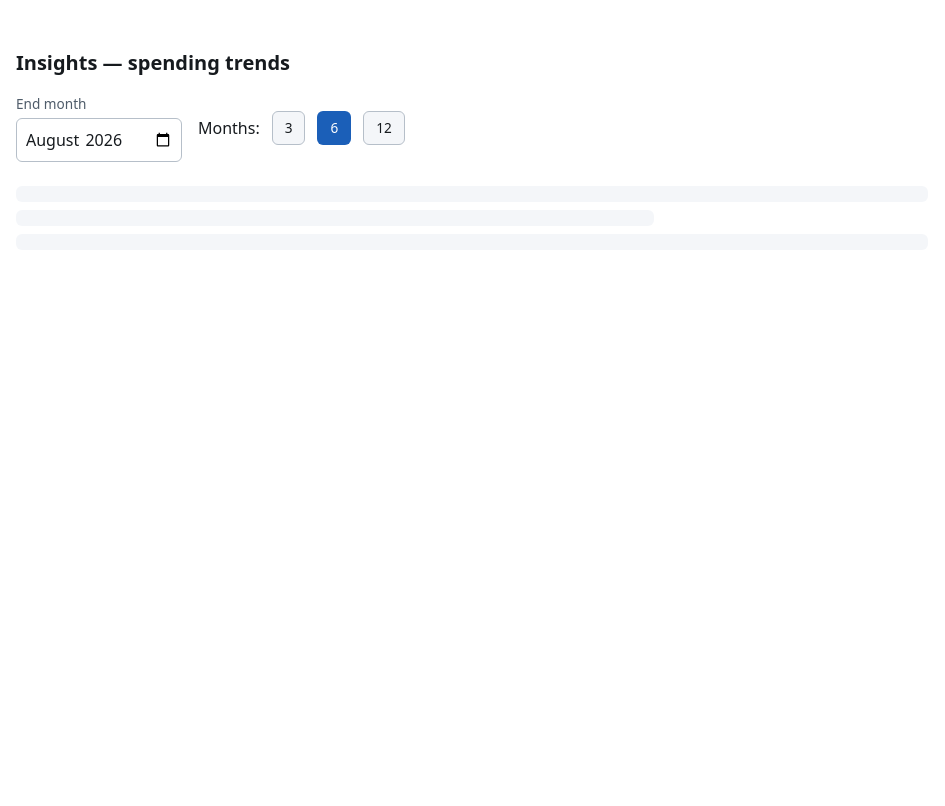
Scenario: SpendingTrendsView (FEAT-UX10) › shows the total trend and the top-2 envelopes by outflow over the window, 0-filled
Replace the text in the field labelled "End month" with "2026-03" at [99, 140], box left=16, top=118, right=182, bottom=162
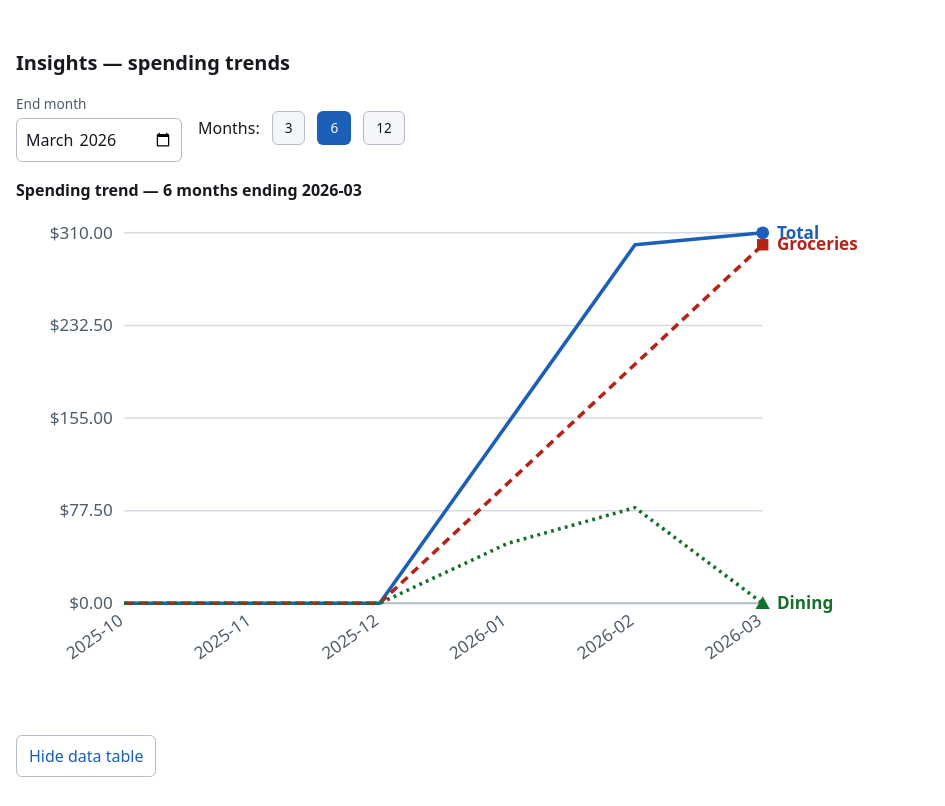
Click the button "3" at [289, 128], box left=272, top=111, right=306, bottom=145
(page scrolled)
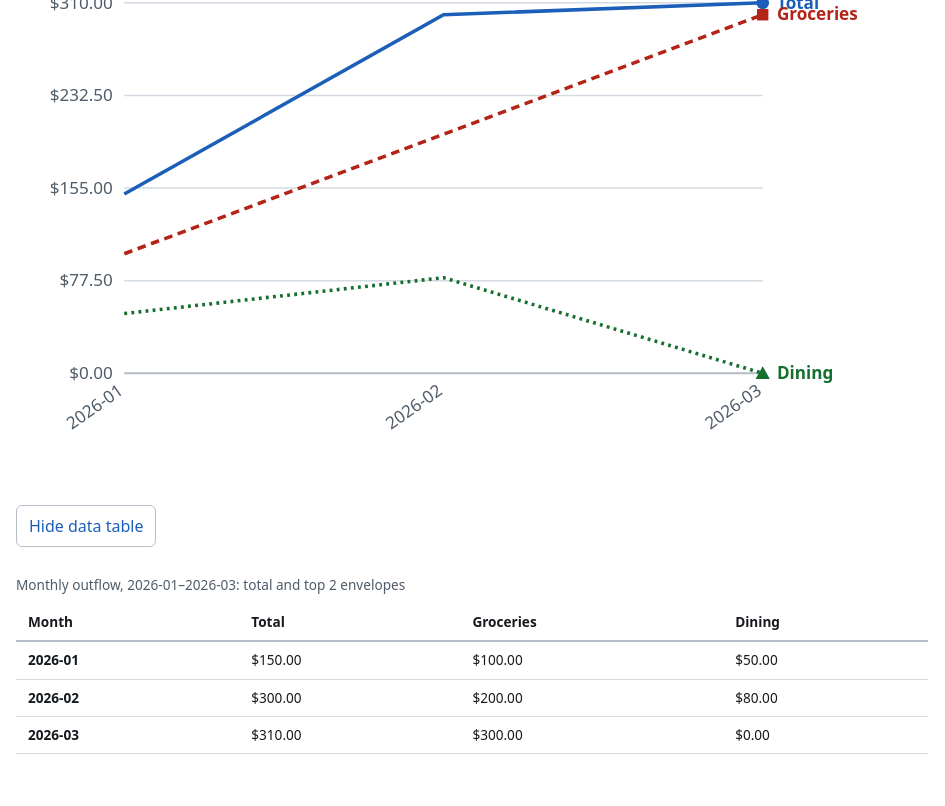
Check: the text "$150.00" is shown, box left=239, top=641, right=460, bottom=679
Check: the text "Monthly outflow, 2026-01–2026-03: total and top 2 envelopes" is shown, box left=16, top=575, right=405, bottom=594
Check: the column headings read "Month", "Total", "Groceries", "Dining", in this order, box left=16, top=604, right=239, bottom=641; left=239, top=604, right=460, bottom=641; left=460, top=604, right=723, bottom=641; left=723, top=604, right=928, bottom=641
